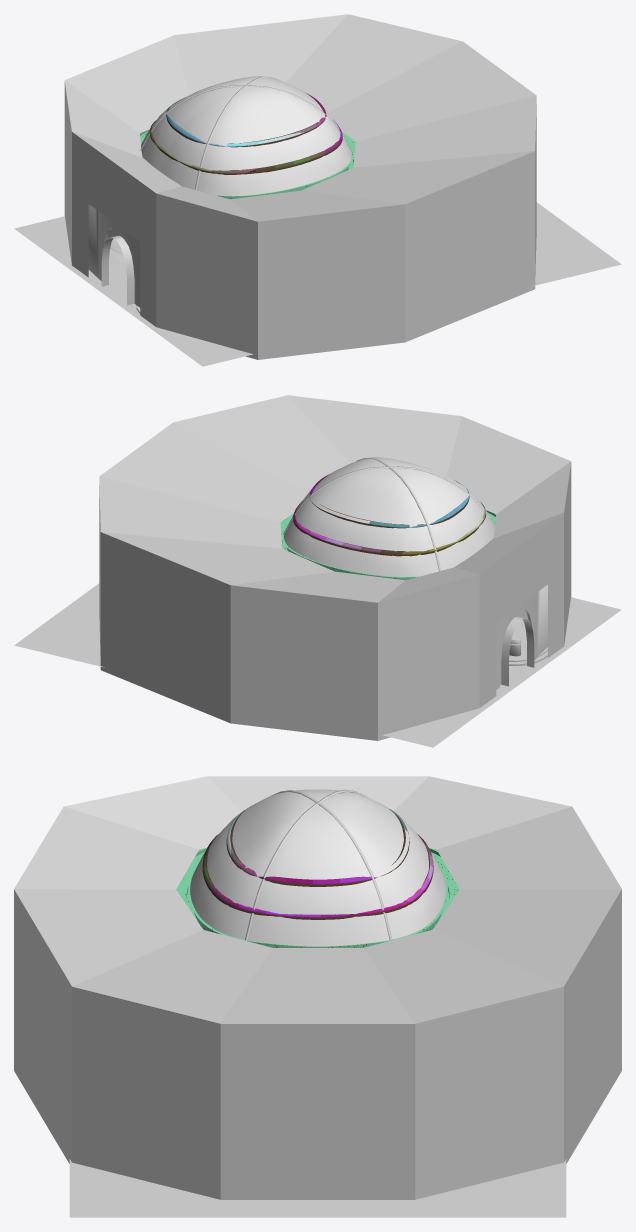
File: LOBBY_avatarHub.fbx
The picture shows the model from 3 angles, top to bottom: view 1: azimuth 30°, elevation 25°; view 2: azimuth 150°, elevation 25°; view 3: azimuth 270°, elevation 25°; orthographic projection. The views are drawn at different scales.
Visible parts, largest first — view 1: LobbyAvatarHub, AvatarLobbyWall.002, AvatarLobbyWall.008, AvatarLobbyWall.001, AvatarLobbyWall.004, AvatarLobbyWall.003, AvatarLobbyWall.006; view 2: LobbyAvatarHub, AvatarLobbyWall.002, AvatarLobbyWall.008, AvatarLobbyWall.001, AvatarLobbyWall.004, AvatarLobbyWall.003, AvatarLobbyWall.006, HostisBase; view 3: LobbyAvatarHub, AvatarLobbyWall.002, AvatarLobbyWall.008, AvatarLobbyWall.004, AvatarLobbyWall.006, AvatarLobbyWall.003.
Boxes of the visible parts, <box> form: LobbyAvatarHub: <box>64,14,536,359</box>; AvatarLobbyWall.002: <box>141,76,351,195</box>; AvatarLobbyWall.008: <box>14,202,621,366</box>; AvatarLobbyWall.001: <box>88,204,140,307</box>; AvatarLobbyWall.004: <box>149,93,342,174</box>; AvatarLobbyWall.003: <box>140,76,352,190</box>; AvatarLobbyWall.006: <box>140,129,355,199</box>; LobbyAvatarHub: <box>99,395,571,740</box>; AvatarLobbyWall.002: <box>284,457,494,576</box>; AvatarLobbyWall.008: <box>14,583,621,747</box>; AvatarLobbyWall.001: <box>496,584,547,689</box>; AvatarLobbyWall.004: <box>293,474,486,556</box>; AvatarLobbyWall.003: <box>283,458,494,571</box>; AvatarLobbyWall.006: <box>280,510,495,580</box>; HostisBase: <box>509,619,547,666</box>; LobbyAvatarHub: <box>14,776,621,1199</box>; AvatarLobbyWall.002: <box>190,789,445,946</box>; AvatarLobbyWall.008: <box>69,1159,566,1217</box>; AvatarLobbyWall.004: <box>202,809,433,919</box>; AvatarLobbyWall.006: <box>176,848,459,947</box>; AvatarLobbyWall.003: <box>245,789,392,940</box>.
Size of the model in its own units: 2331 by 970 by 2225.
Materials: 3 (2 with a texture image).
